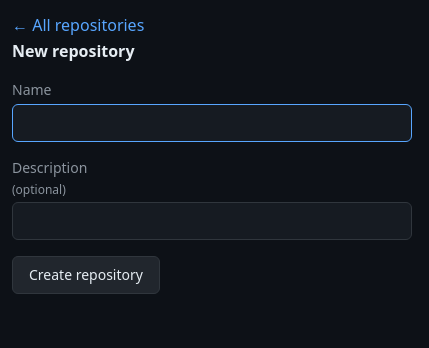
NewRepo › shows error when repo name already exists
In the field labelled "Name": (212, 123) [12,104,412,142], type "duplicate"
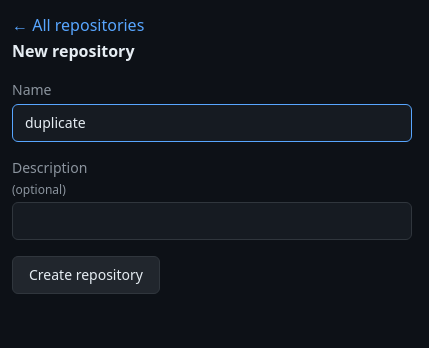
Click the button "Create repository": (86, 275) [12,256,160,294]
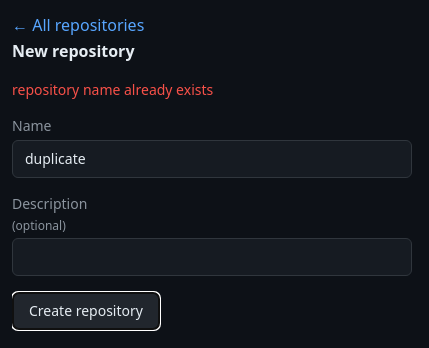
Check: the text "repository name already exists" is shown, box [12,80,213,99]
